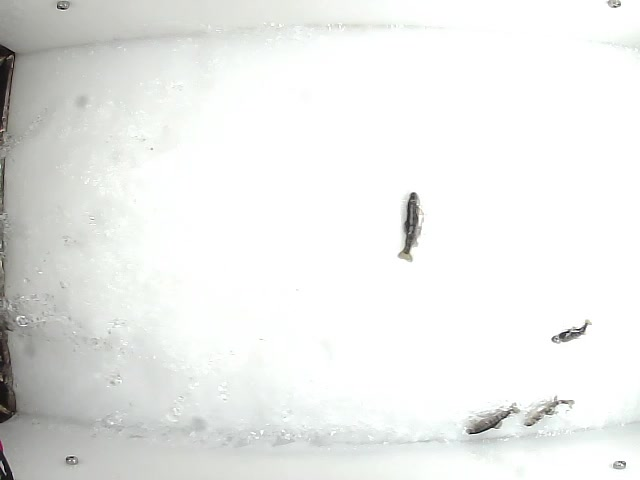fish: (393, 191, 425, 263), (461, 401, 521, 435), (523, 397, 576, 430), (548, 318, 591, 348)
